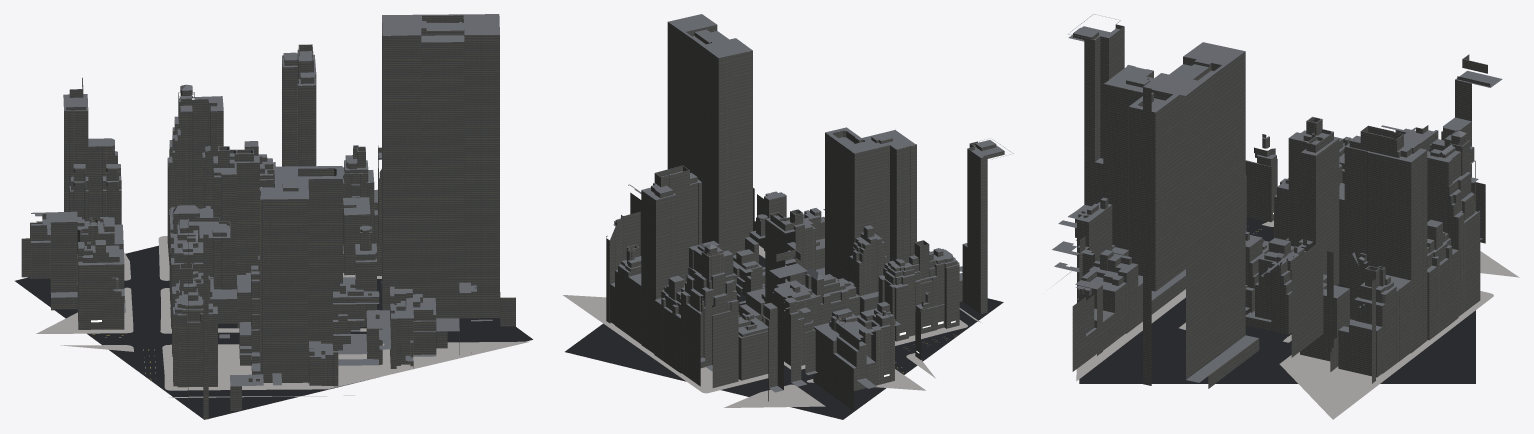
The picture shows the model from 3 angles, left to right: view 1: azimuth 30°, elevation 25°; view 2: azimuth 150°, elevation 25°; view 3: azimuth 270°, elevation 25°; orthographic projection. The views are drawn at different scales.
Parts seen in each view (by area): view 1: t6_2, detail; view 2: t6_2, detail; view 3: t6_2, detail.
Part boxes in pixels (left/top/right/bottom): t6_2: left=15, top=14, right=532, bottom=419; detail: left=36, top=236, right=529, bottom=397; t6_2: left=565, top=14, right=1013, bottom=419; detail: left=563, top=245, right=981, bottom=407; t6_2: left=1052, top=14, right=1502, bottom=388; detail: left=1049, top=220, right=1519, bottom=419.
Size of the model in its own units: 333 by 208 by 301.
Materials: 5 (2 with a texture image).
